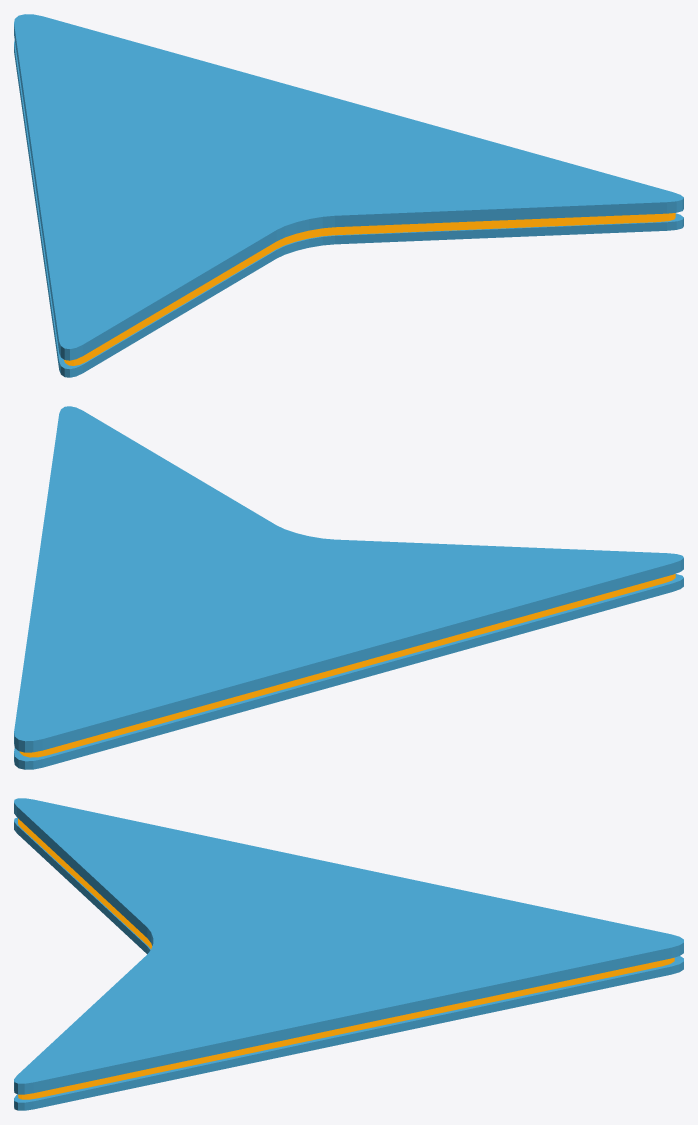
The model's file is triangle.glb.
3 views of the same model, one above another, from view 1: azimuth 30°, elevation 25°; view 2: azimuth 150°, elevation 25°; view 3: azimuth 270°, elevation 25° (orthographic). The views are drawn at different scales.
Visible parts, largest first — view 1: Cube; view 2: Cube; view 3: Cube.
Part boxes in pixels (bbox=[...]): Cube: bbox=[14, 14, 683, 377]; Cube: bbox=[14, 406, 683, 769]; Cube: bbox=[14, 798, 683, 1110].
Bounding box in the file's own units: 1.93 × 0.0852 × 1.91.
